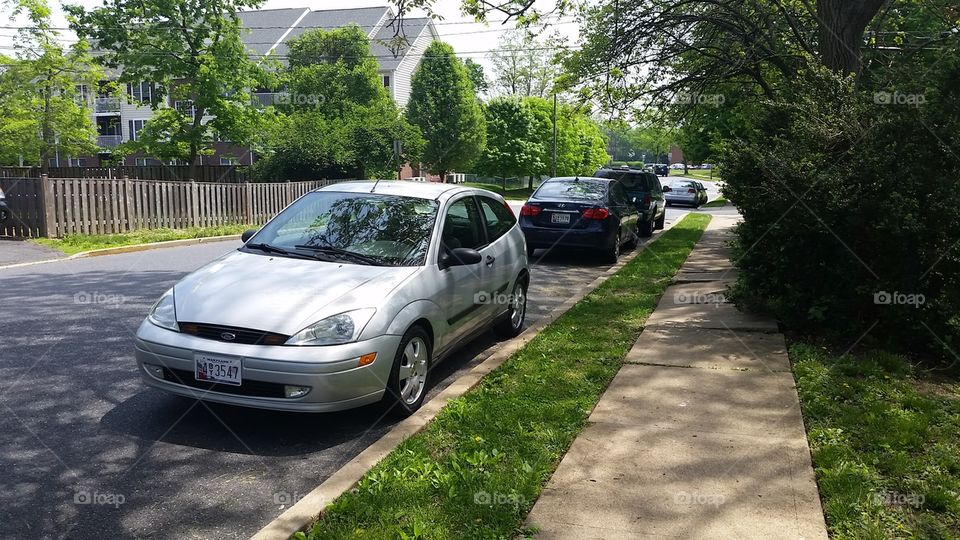car: (140, 177, 546, 407), (542, 172, 635, 276), (666, 178, 709, 209)
